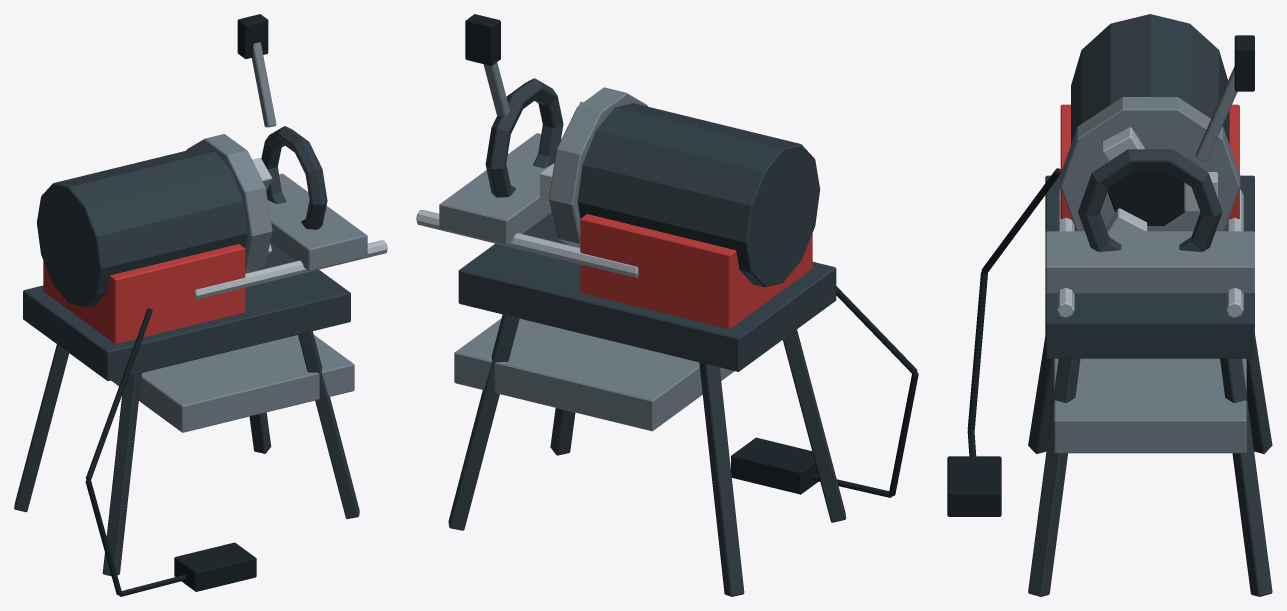
The model's file is b07_pipe_threading_machine_stand.glb.
The picture shows the model from 3 angles, left to right: view 1: azimuth 30°, elevation 25°; view 2: azimuth 150°, elevation 25°; view 3: azimuth 270°, elevation 25°; orthographic projection. The views are drawn at different scales.
Visible parts, largest first — view 1: b07_pipe_threading_machine_stand; view 2: b07_pipe_threading_machine_stand; view 3: b07_pipe_threading_machine_stand.
Boxes of the visible parts, x1,y1,x2,y2 form: b07_pipe_threading_machine_stand: (14,14,387,596); b07_pipe_threading_machine_stand: (416,14,918,596); b07_pipe_threading_machine_stand: (947,14,1272,596).
Bounding box in the file's own units: 1.4 × 1.78 × 0.9616.
